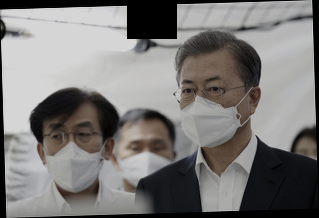with_mask: (178, 74, 245, 149), (44, 119, 105, 194), (119, 137, 175, 187)
